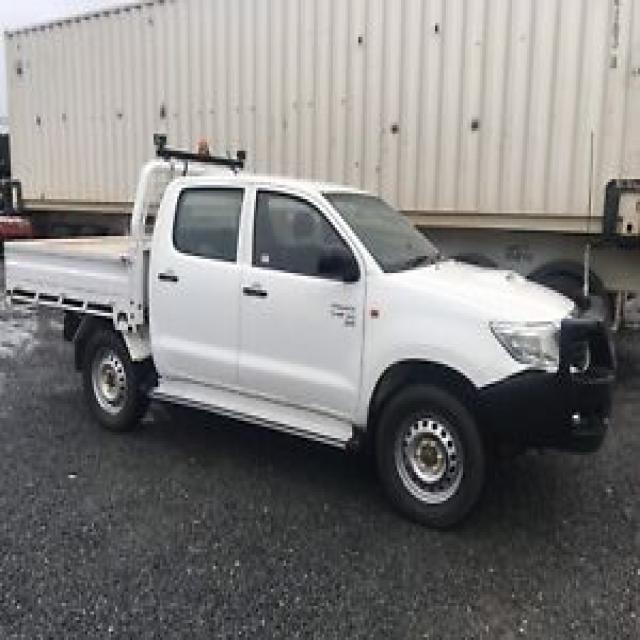light_vehicle: (28, 125, 604, 526)
